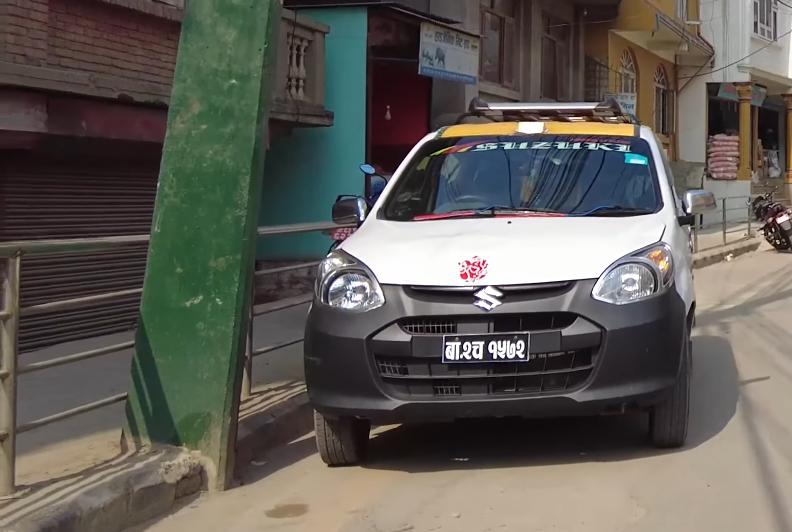bike: (742, 182, 792, 257)
taxi: (293, 87, 717, 472)
